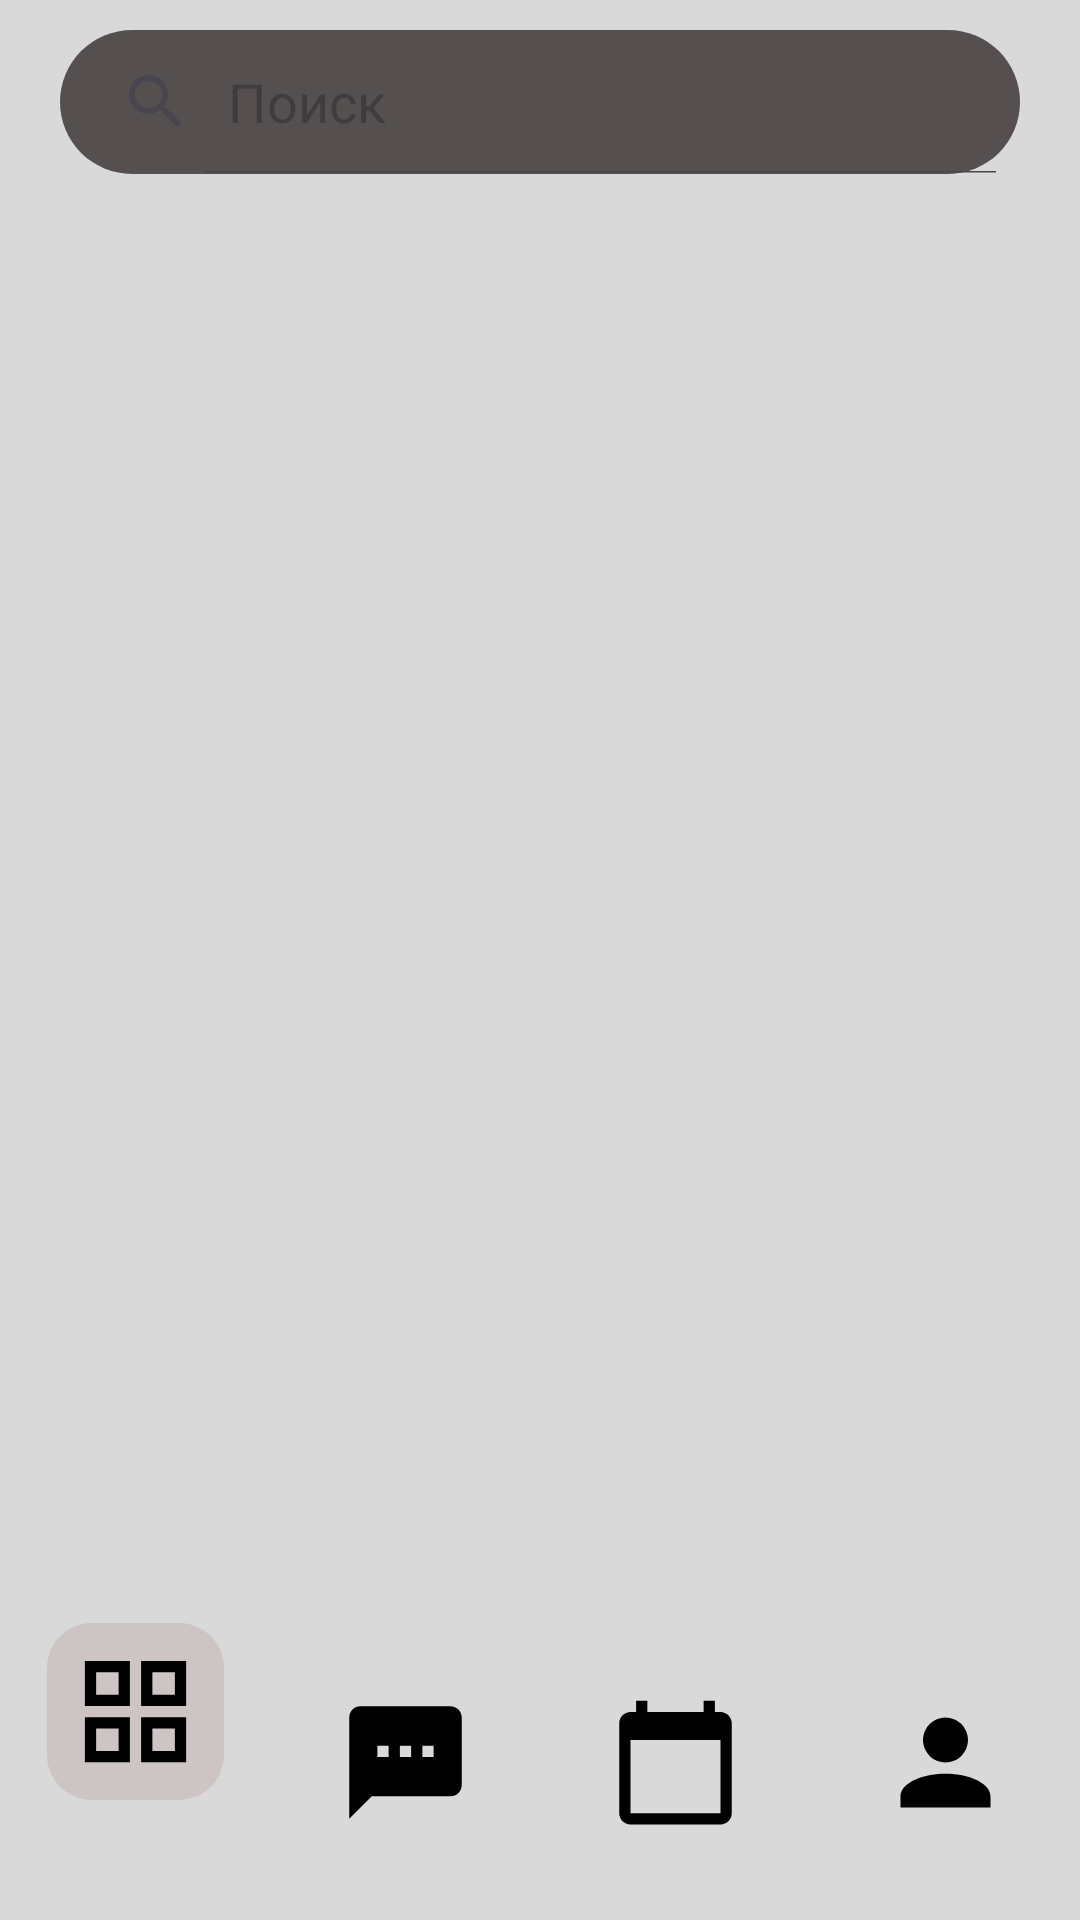

Named icons in this screenshot (1080px x 1920px) and their bounding boxes, bbox=(x1, y1, x2, y2):
account: bbox=(900, 1717, 991, 1808)
calendar today: bbox=(619, 1700, 732, 1825)
message processing: bbox=(349, 1706, 462, 1819)
view grid: bbox=(84, 1661, 187, 1763)
